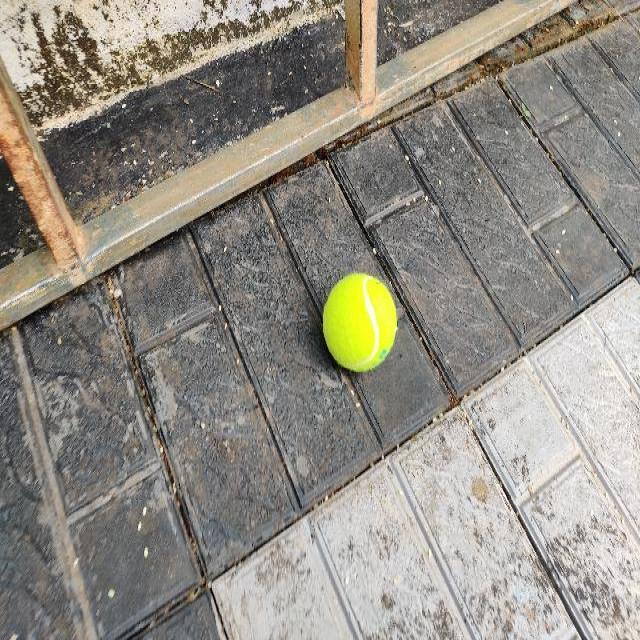tennis-ball: (322, 272, 396, 374)
